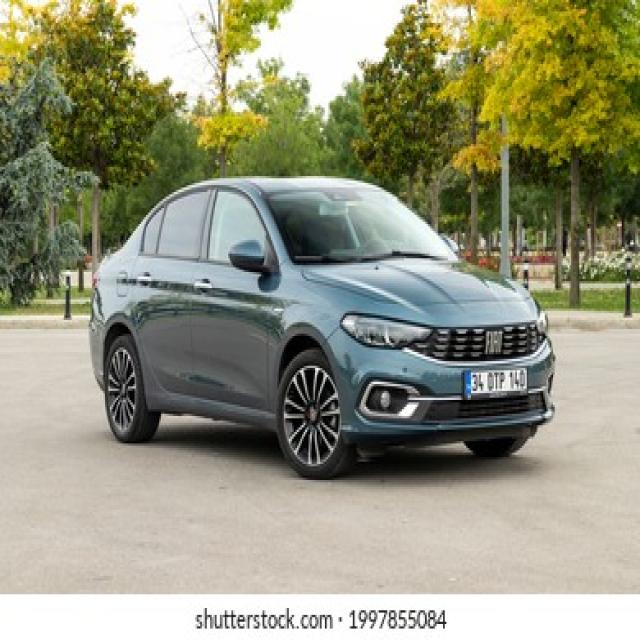fiat: (480, 325, 510, 362)
